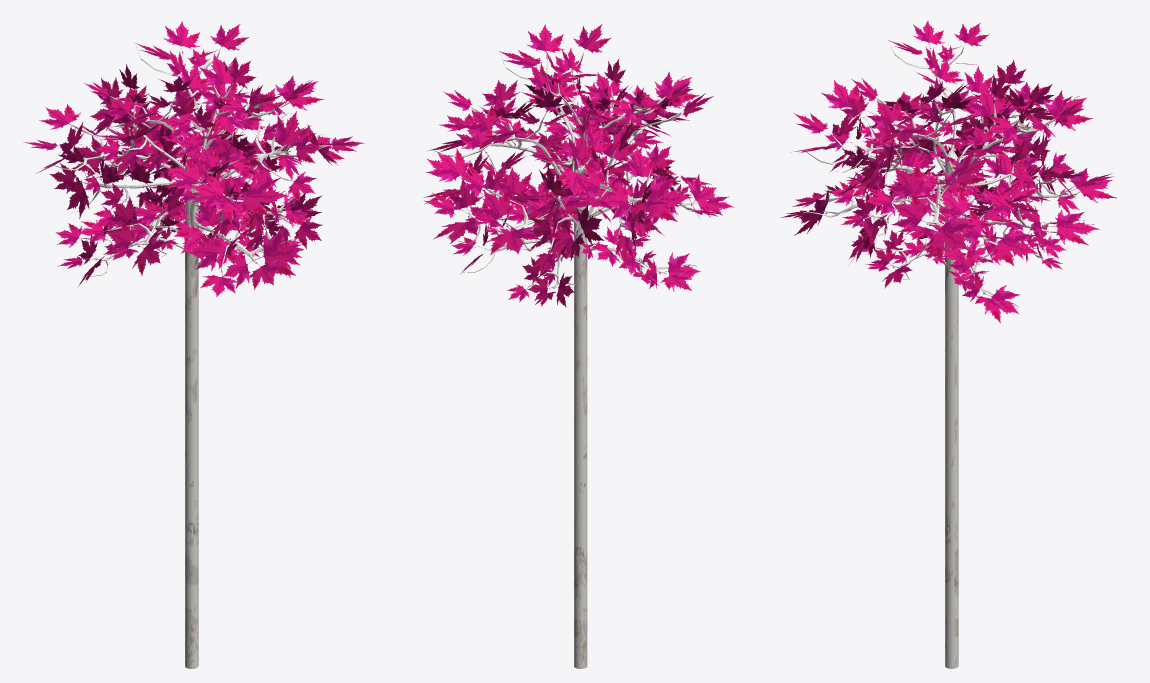
File: tree3.fbx
3 views of the same model, side by side, from view 1: azimuth 30°, elevation 25°; view 2: azimuth 150°, elevation 25°; view 3: azimuth 270°, elevation 25° (orthographic).
Visible parts, largest first — view 1: pCylinder141; view 2: pCylinder141; view 3: pCylinder141.
Part boxes in pixels (box(x1,y1,x2,y2)): pCylinder141: box(23, 21, 365, 668); pCylinder141: box(423, 24, 734, 668); pCylinder141: box(780, 20, 1117, 668).
Size of the model in its own units: 10.54 by 19.87 by 10.73.
